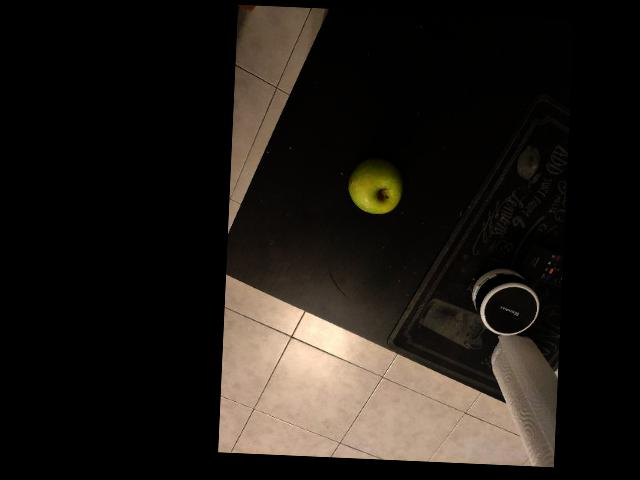apple: (249, 271, 325, 342)
